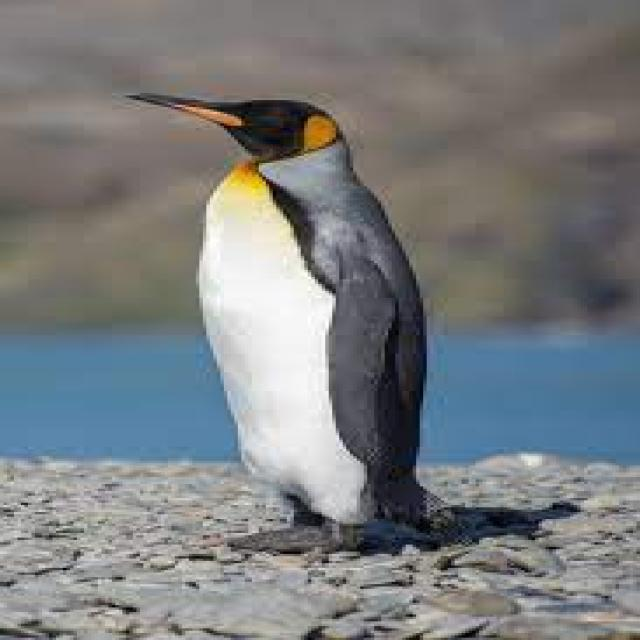Penguin: (118, 82, 502, 550)
